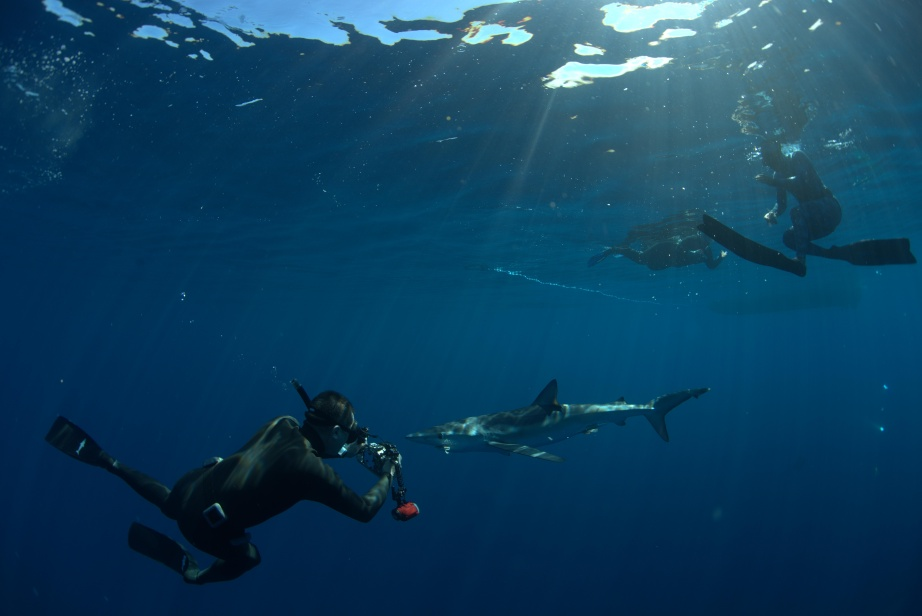Azul: (392, 373, 725, 483)
